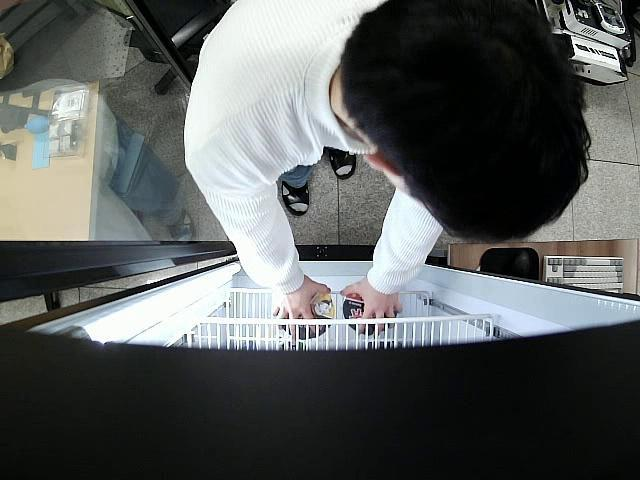07_buldak_L: (282, 294, 334, 338), (343, 292, 398, 333)
